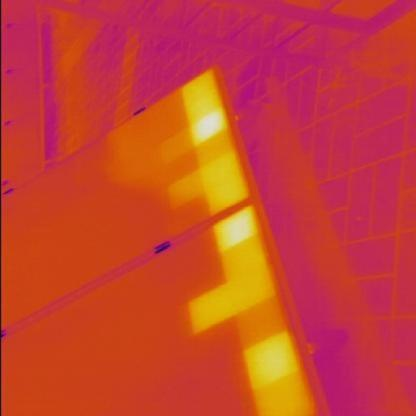anomaly: (193, 209, 278, 335), (237, 336, 315, 416), (175, 155, 251, 214), (183, 66, 229, 152)
